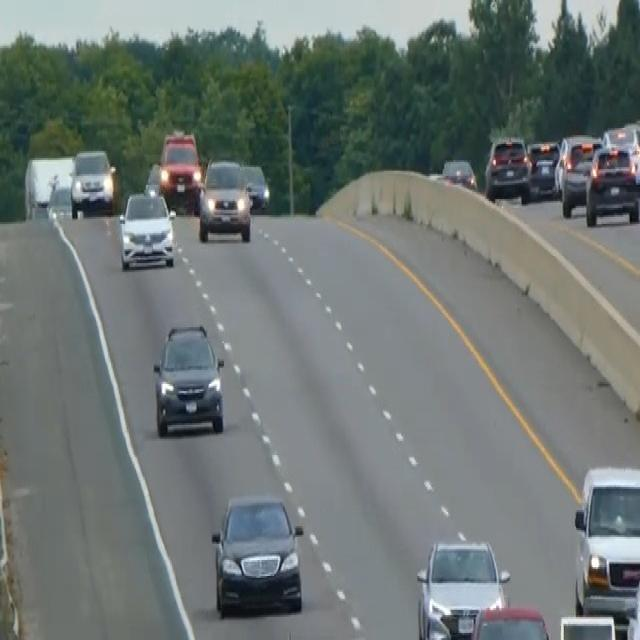car: (210, 491, 304, 617), (415, 535, 510, 638), (151, 320, 225, 437), (585, 130, 639, 226), (197, 154, 252, 243), (118, 187, 176, 270), (555, 132, 601, 215), (484, 133, 531, 203), (69, 146, 115, 217), (468, 603, 552, 638), (527, 137, 560, 197), (240, 160, 270, 212), (557, 614, 618, 638), (441, 157, 477, 190), (625, 564, 639, 638), (144, 160, 162, 196)
jeep: (157, 128, 202, 212)
lorry: (22, 151, 74, 221)
minivan: (571, 462, 639, 626)
